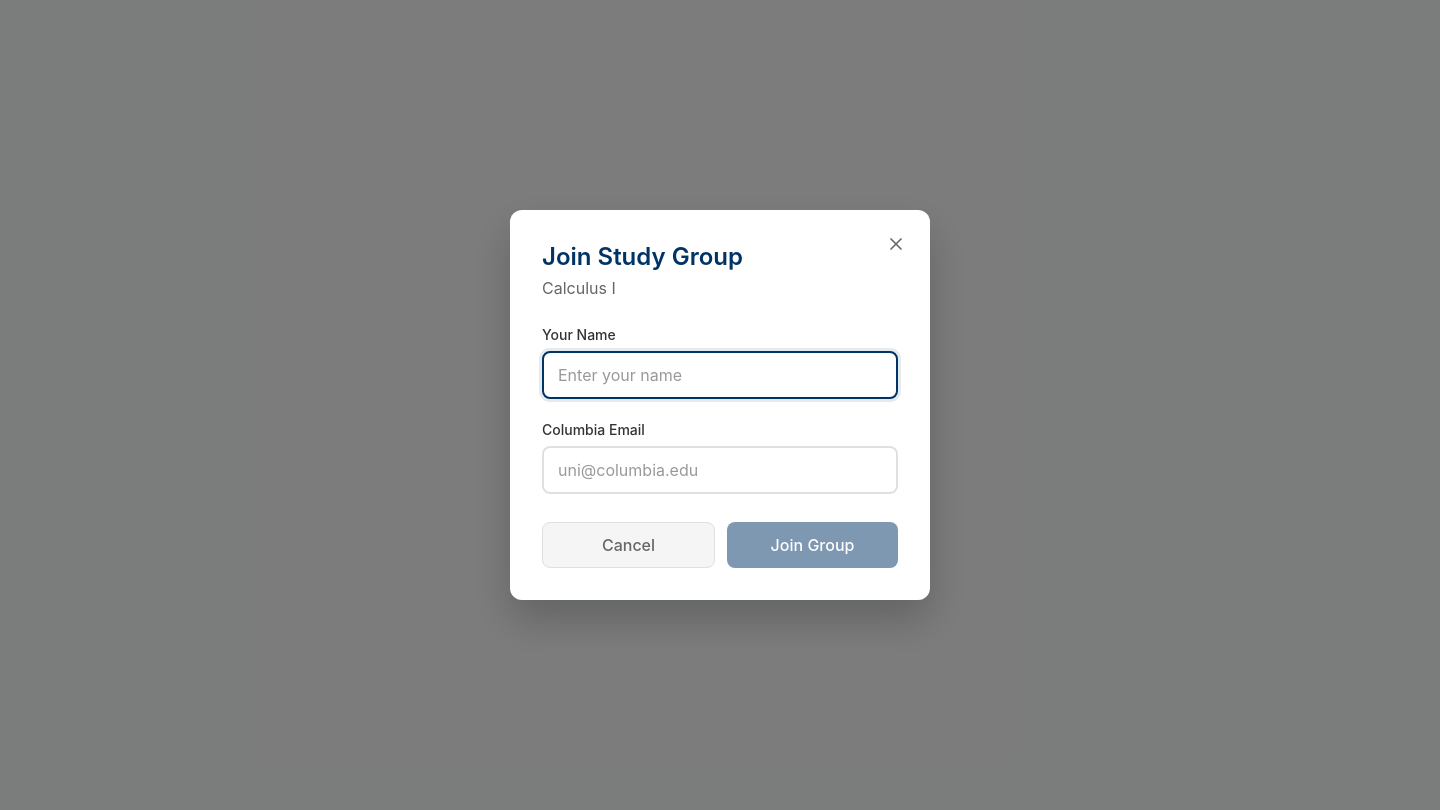
JoinModal › shows email error for invalid email
The width and height of the screenshot is (1440, 810).
Type "john@gmail.com" into the field labelled "Columbia Email". click: (720, 470)
box: [542,446,898,494]
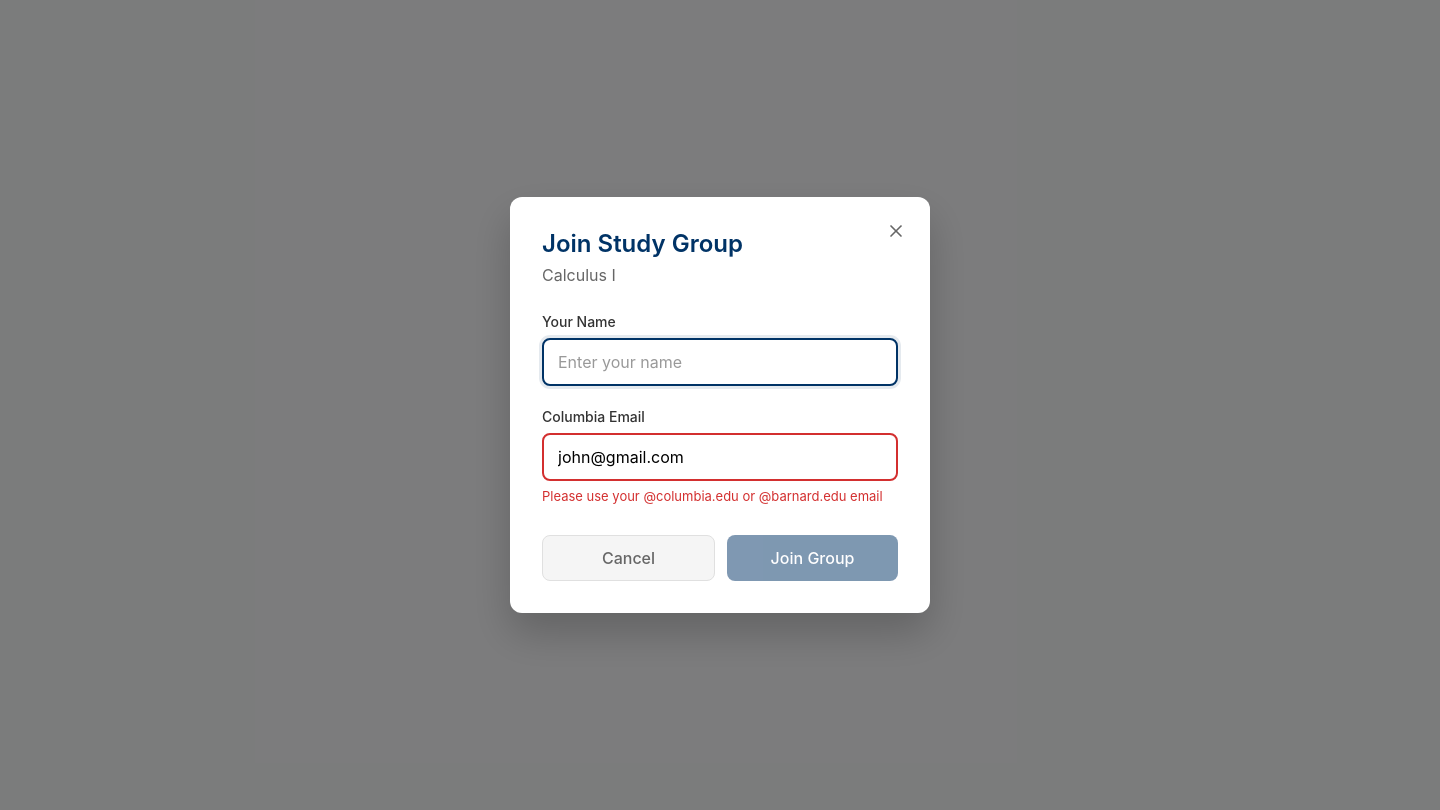
Expected: the text "Please use your @columbia.edu or @barnard.edu email" is shown, [542,487,898,507]
